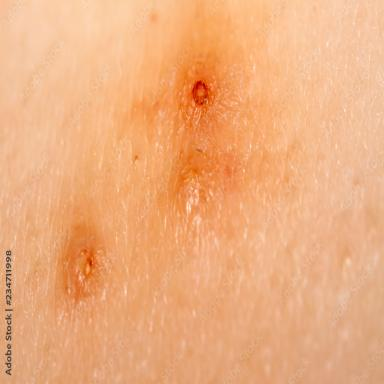Molluscum-Contagiosum: (168, 54, 243, 219), (64, 216, 110, 301)
